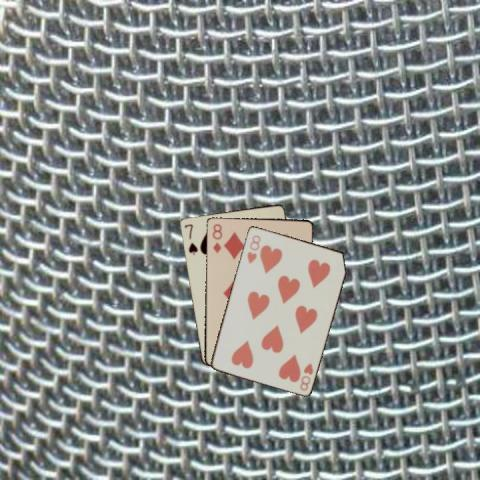7s: (181, 221, 199, 256)
8d: (210, 221, 224, 254)
8h: (244, 232, 262, 265), (296, 360, 314, 392)
